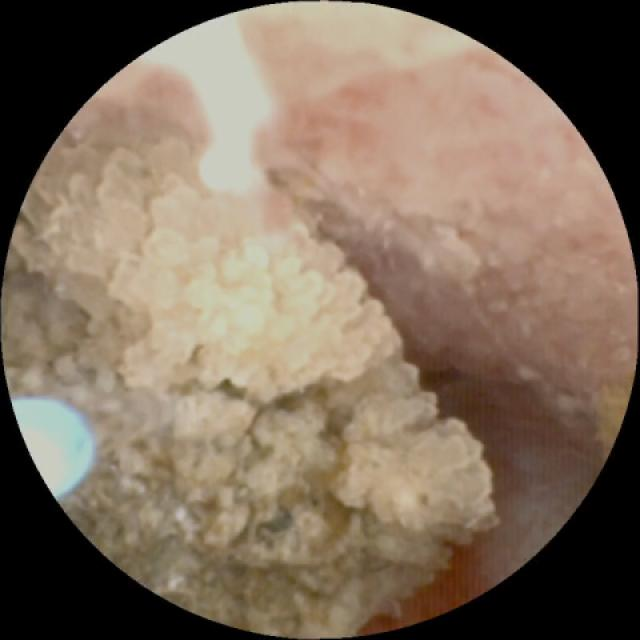fiber: (15, 398, 92, 494)
stone: (12, 128, 497, 631)
tissue: (257, 14, 621, 594)
